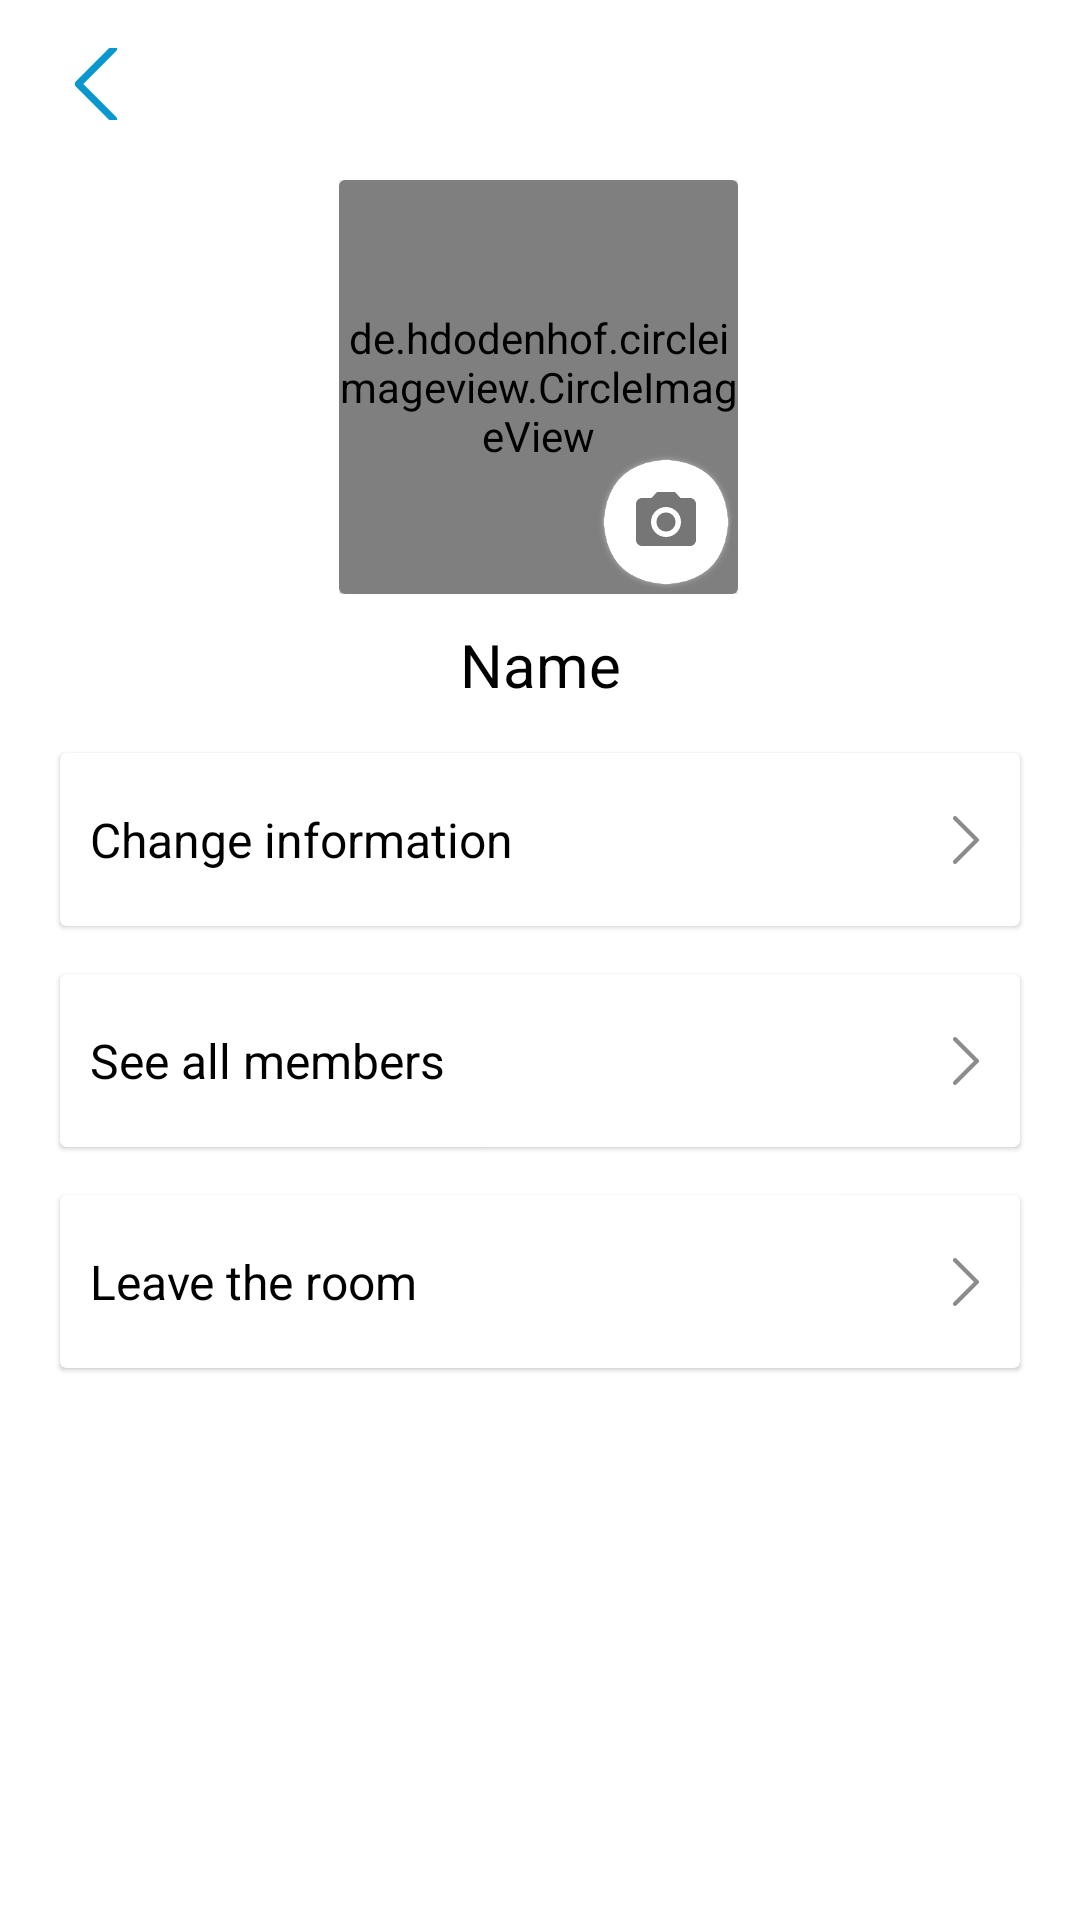

Screen size 1080×1920. Icon name, then its box in pixels as (x1, y1, x2, y2):
left arrow: (74, 48, 118, 120)
photo camera: (603, 459, 729, 585)
right arrow: (953, 816, 979, 864), (953, 1037, 979, 1085), (953, 1258, 979, 1306)
